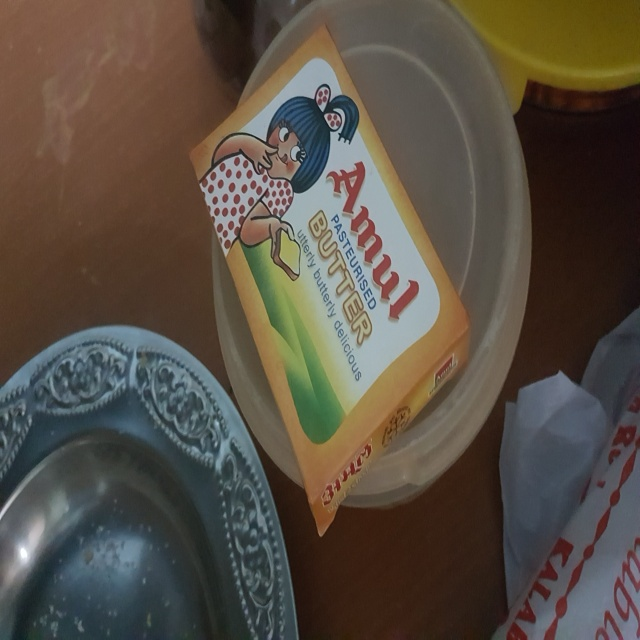butter: (184, 17, 478, 540)
